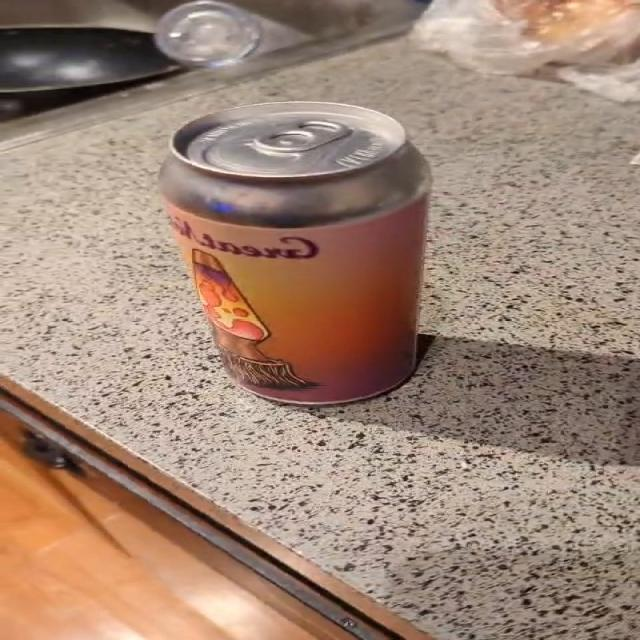metal: (160, 101, 431, 404)
